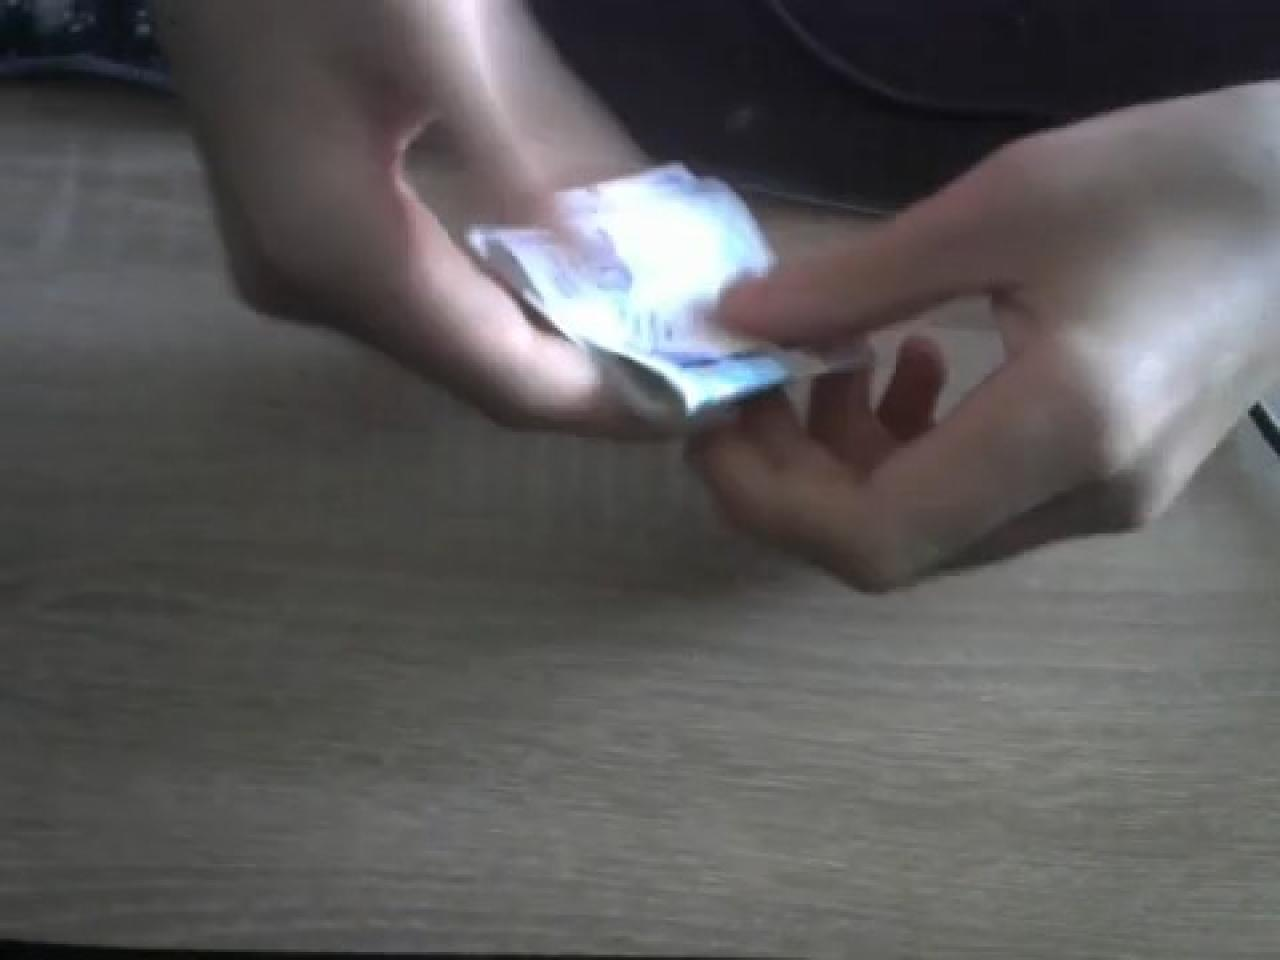20leva: (451, 149, 805, 424)
